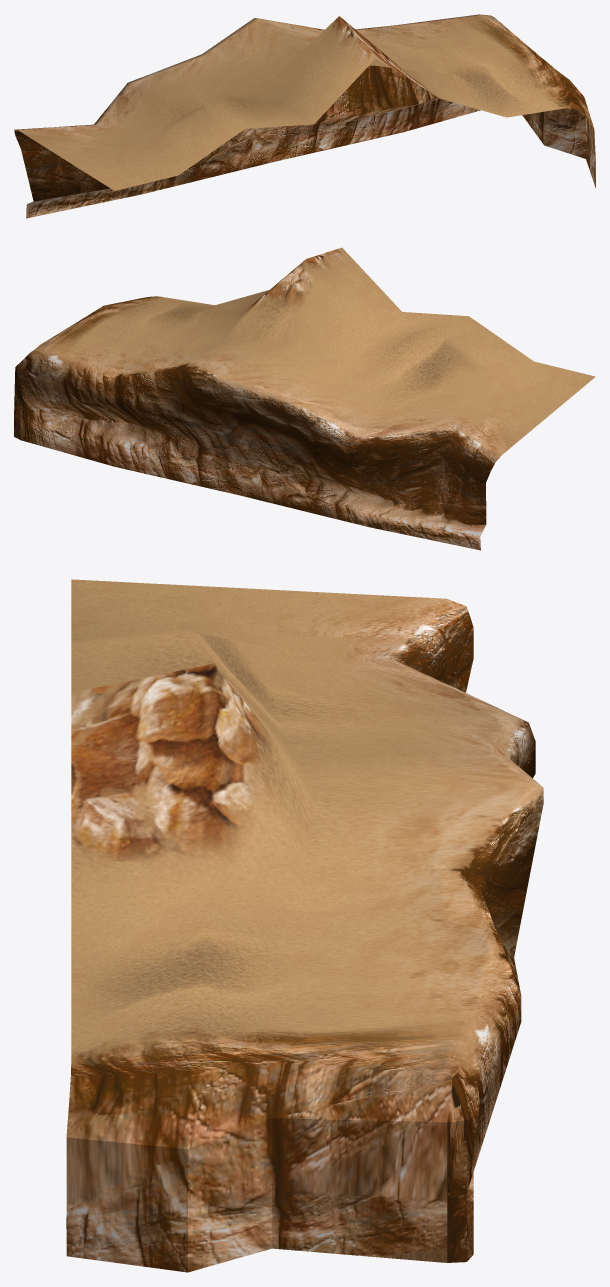
File: grounddesrock.FBX
3 views of the same model, one above another, from view 1: azimuth 30°, elevation 25°; view 2: azimuth 150°, elevation 25°; view 3: azimuth 270°, elevation 25° (orthographic). The views are drawn at different scales.
Visible parts, largest first — view 1: Plane003; view 2: Plane003; view 3: Plane003.
Part boxes in pixels (x1,y1,x2,y2): Plane003: (14,14,595,218); Plane003: (14,247,595,550); Plane003: (66,579,543,1272).
Size of the model in its own units: 2807 by 1191 by 1062.
